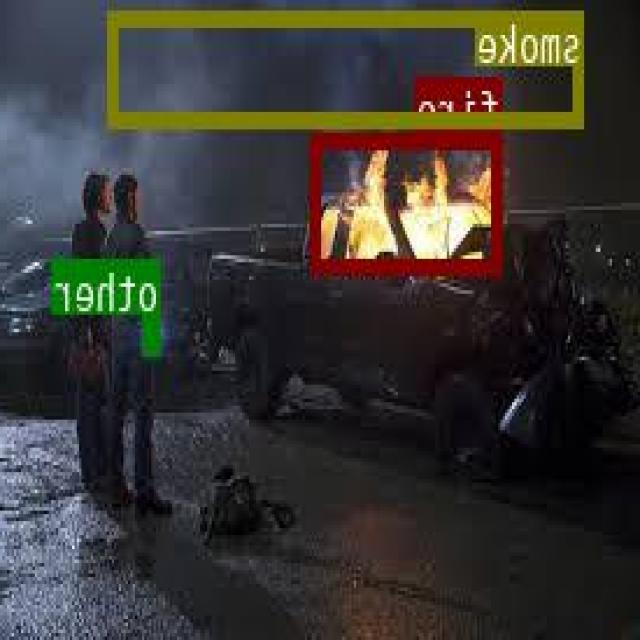fire: (314, 130, 503, 272)
other: (146, 311, 162, 350)
smoke: (110, 10, 585, 124)
